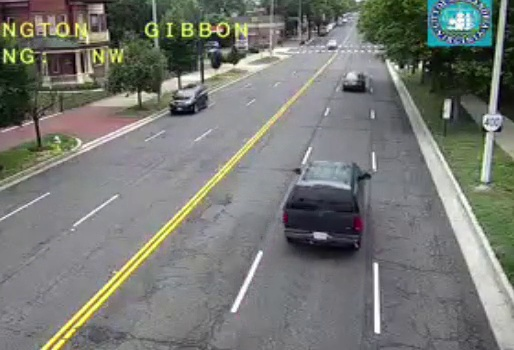car: (284, 160, 363, 247), (342, 73, 365, 91)
